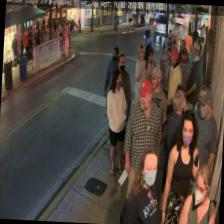person: (122, 77, 162, 205), (160, 109, 200, 224), (121, 144, 166, 224), (188, 88, 219, 189), (103, 70, 128, 172), (176, 163, 217, 224), (110, 53, 134, 148), (100, 45, 122, 147), (144, 66, 168, 152), (182, 40, 203, 132), (162, 50, 182, 124), (172, 46, 192, 114), (131, 43, 146, 120)
